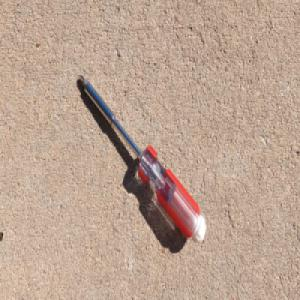Screwdriver: (76, 71, 207, 245)
